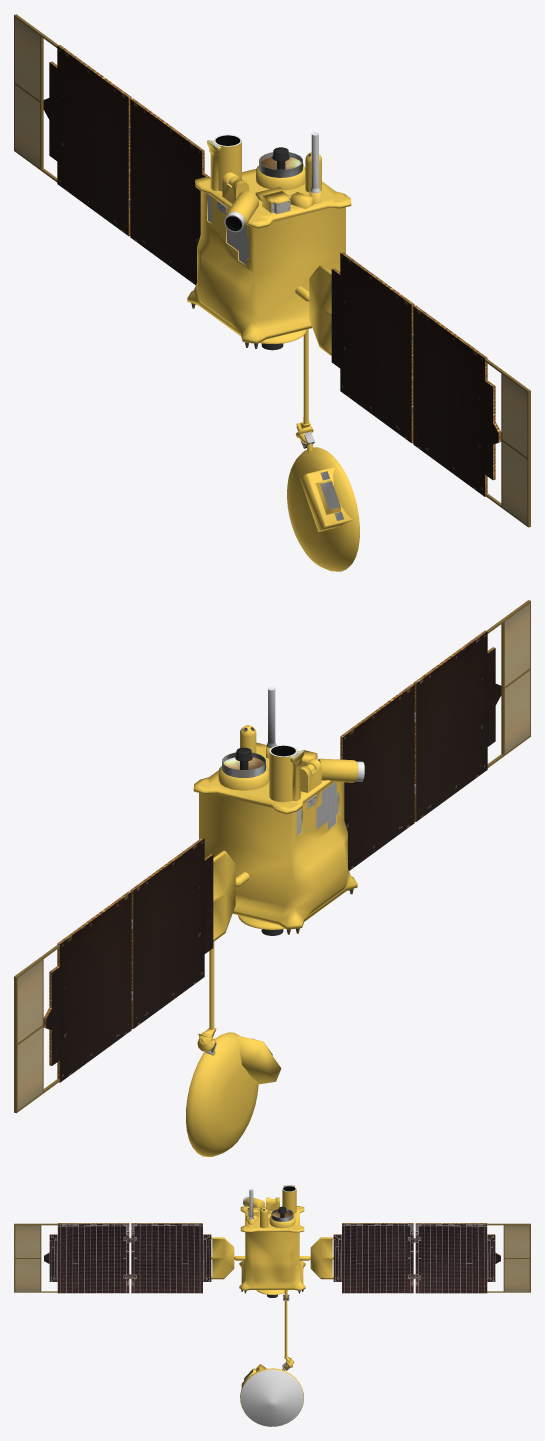
The model's file is mars-global-surveyor.glb.
The picture shows the model from 3 angles, top to bottom: view 1: azimuth 30°, elevation 25°; view 2: azimuth 150°, elevation 25°; view 3: azimuth 270°, elevation 25°; orthographic projection. The views are drawn at different scales.
Parts seen in each view (by area): view 1: tex, foil_gold, AO; view 2: tex, foil_gold, AO; view 3: shiny_panel, foil_gold, tex, foil_silver.
Boxes of the visible parts, left/top/right/bottom form: tex: left=14, top=14, right=530, bottom=527; foil_gold: left=187, top=140, right=359, bottom=571; AO: left=213, top=132, right=320, bottom=448; tex: left=14, top=600, right=530, bottom=1113; foil_gold: left=186, top=725, right=358, bottom=1156; AO: left=205, top=687, right=364, bottom=1054; shiny_panel: left=44, top=1223, right=500, bottom=1293; foil_gold: left=211, top=1186, right=333, bottom=1426; tex: left=14, top=1185, right=530, bottom=1386; foil_silver: left=240, top=1369, right=303, bottom=1426.
Size of the model in its own units: 1.75 by 5.15 by 10.52.
Materials: 8 (3 with a texture image).
